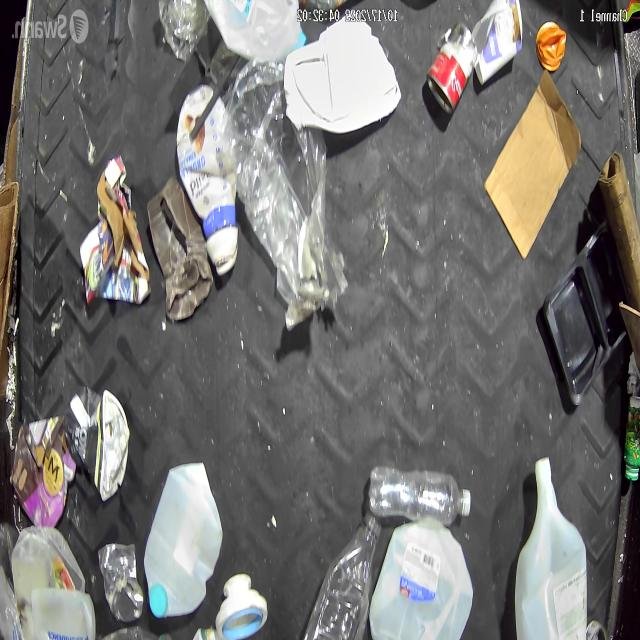can: (426, 21, 476, 110), (98, 542, 144, 622)
milk_jug: (284, 11, 402, 133), (515, 457, 587, 640), (143, 458, 222, 618), (368, 522, 470, 639), (9, 523, 91, 638), (199, 0, 308, 63), (19, 588, 96, 639)
plastic_bottle: (302, 516, 382, 640), (366, 463, 470, 530)
